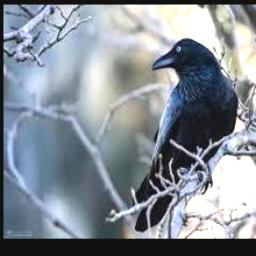Crow: (131, 37, 239, 233)
